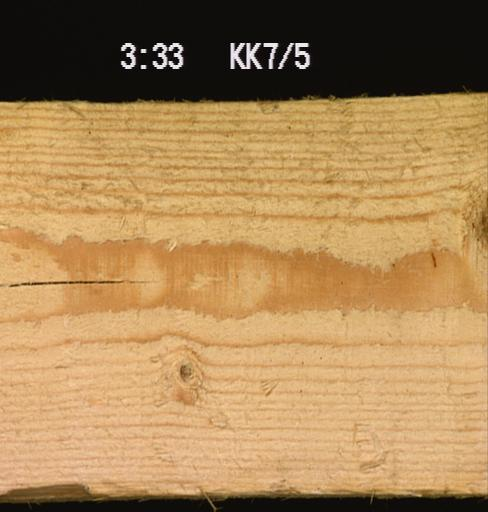sound_knot: (451, 184, 487, 295), (154, 343, 214, 409)
split: (0, 265, 158, 290)
wave: (7, 477, 242, 505)
